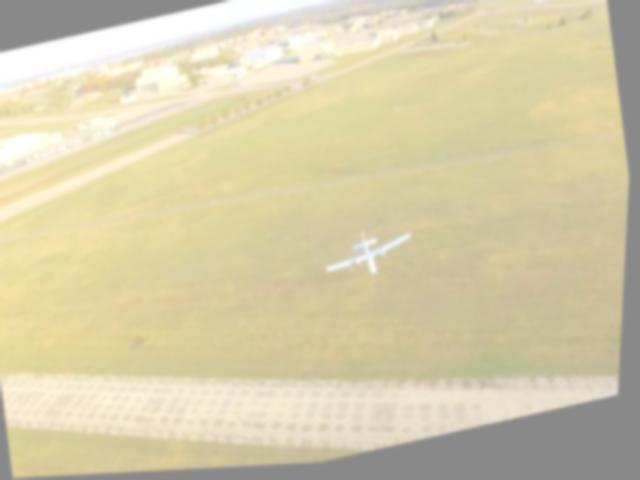uav: (323, 221, 420, 288)
